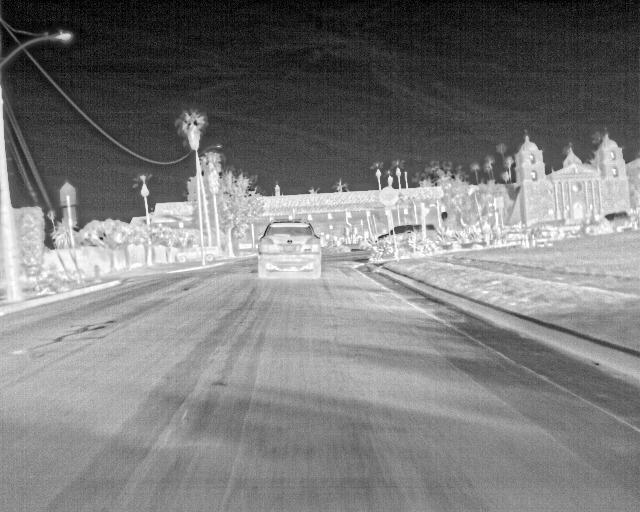car: (254, 218, 323, 279), (395, 225, 419, 245), (174, 243, 198, 261), (372, 228, 390, 248), (204, 244, 220, 261)
